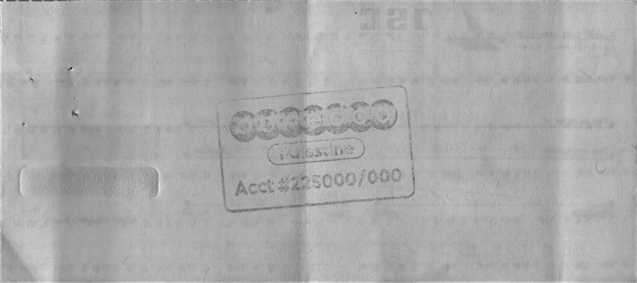stamp: (213, 84, 417, 214)
